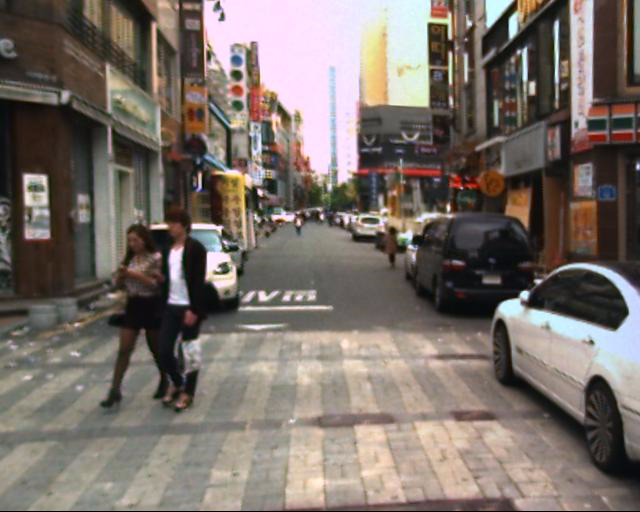person: (91, 198, 172, 411), (155, 190, 227, 413), (377, 220, 406, 284)
